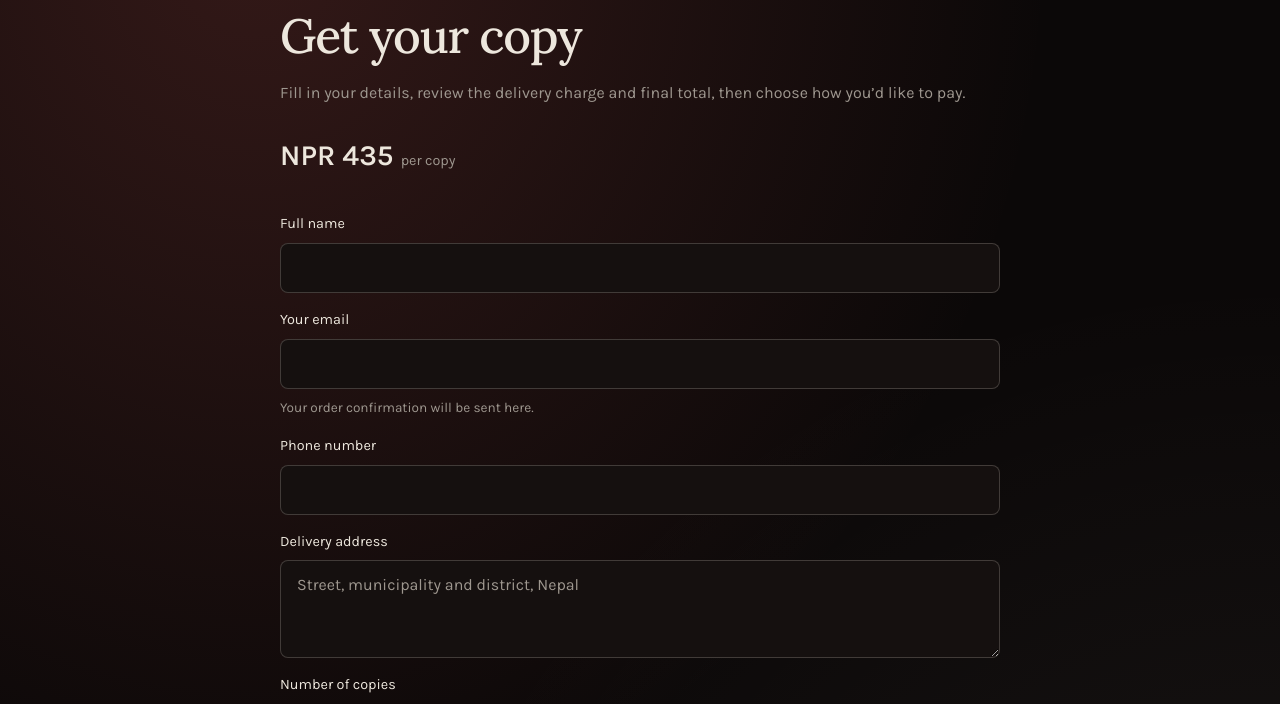
Test: delivery total is revealed at review, COD submits and the exact receipt message appears
In the field labelled "Full name": (640, 268) 280,243 -> 1000,293, type "Sample Reader"
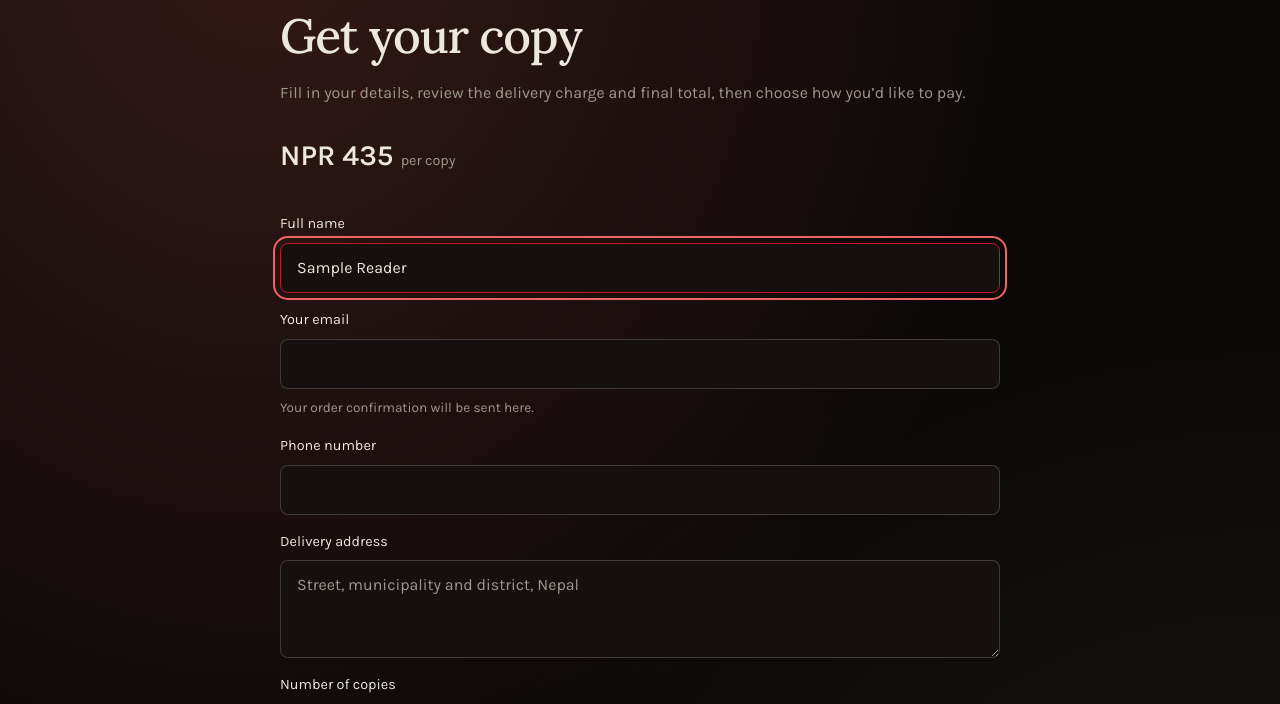
In the field labelled "Your email": (640, 364) 280,339 -> 1000,389, type "reader@example.test"
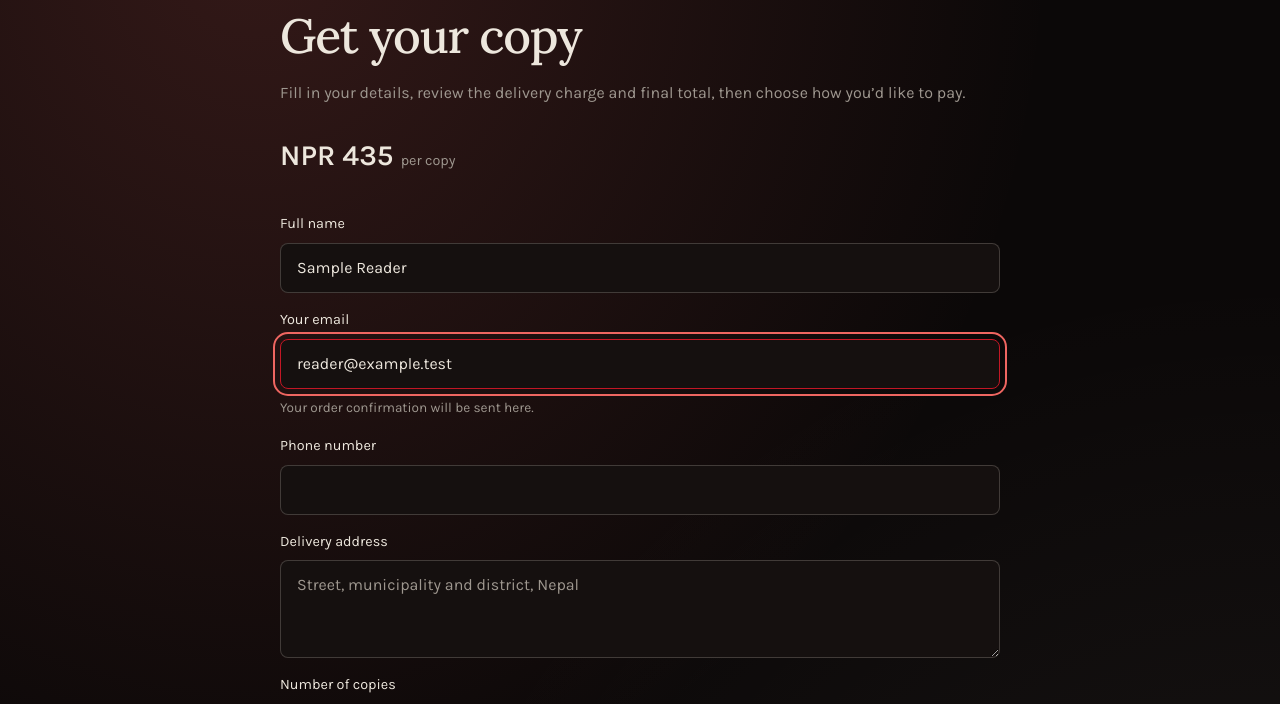
In the field labelled "Phone number": (640, 490) 280,465 -> 1000,515, type "+977 9800000000"
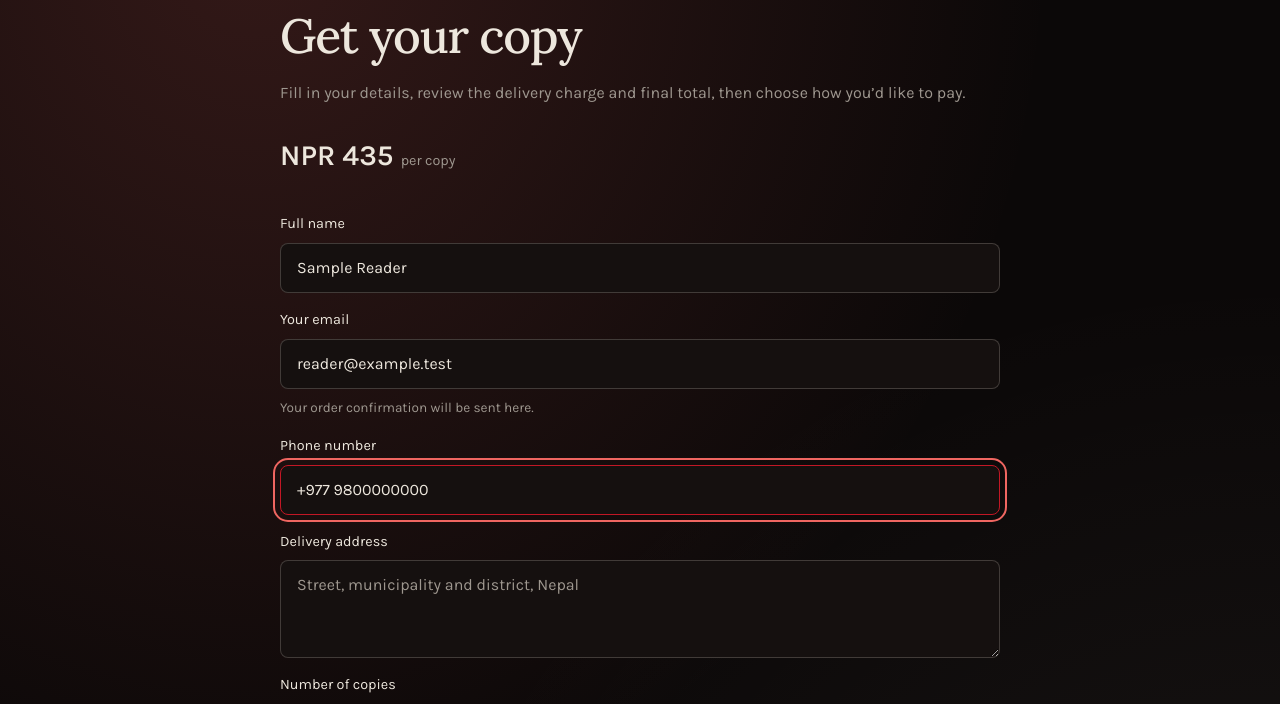
In the text box labelled "Delivery address": (640, 609) 280,560 -> 1000,658, type "Sample address, Jhapa, Nepal"
(page scrolled)
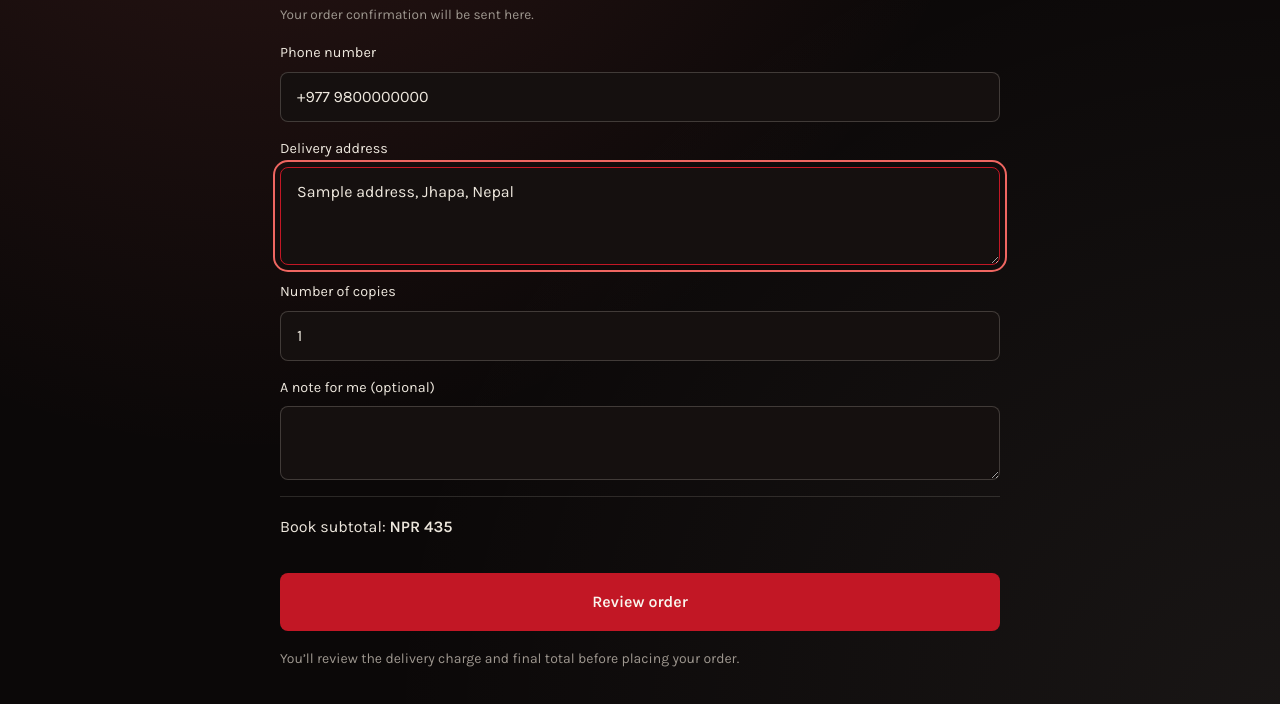
Expected: the heading "Review your order" is not shown
Click the button "Review order": (640, 602) 280,574 -> 1000,632
(page scrolled)
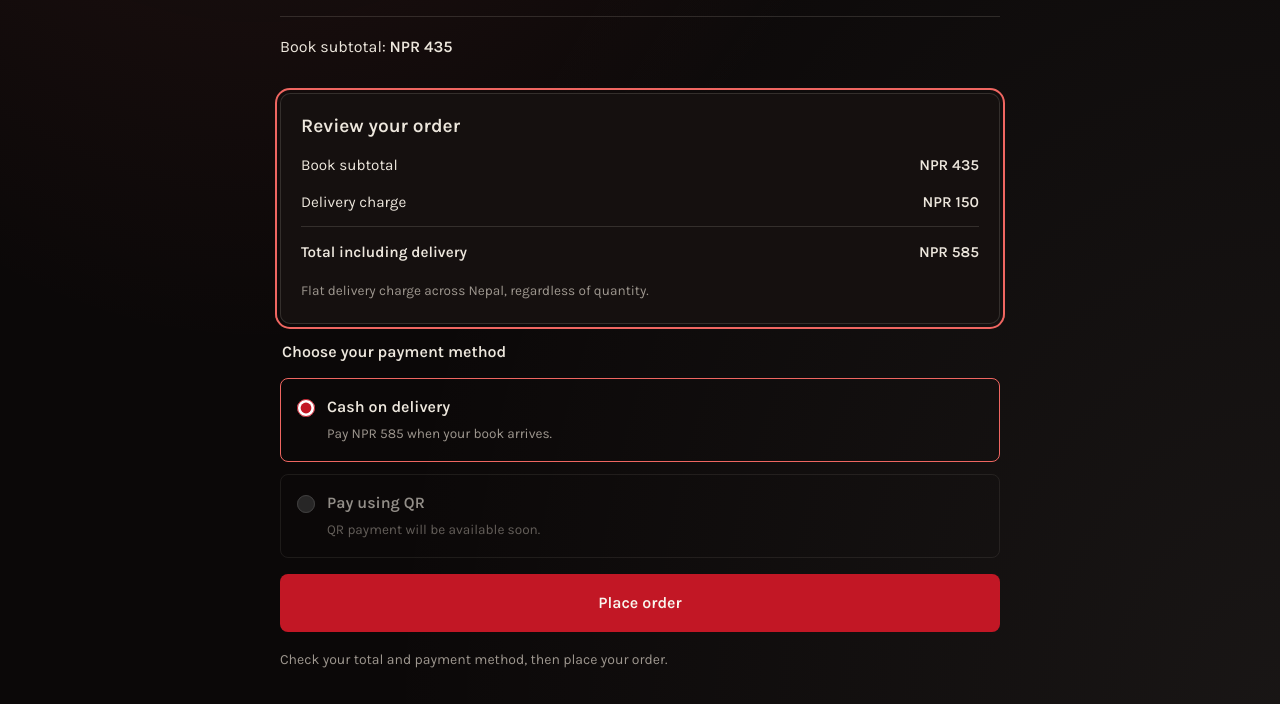
Expected: the text "NPR 150" is shown, 923,189 -> 979,216
Expected: the text "NPR 585" is shown, 919,239 -> 979,265
Expected: the radio button labelled "Pay using QR QR payment will be available soon." is disabled, 297,495 -> 315,513
Click the button "Place order": (640, 602) 280,574 -> 1000,632
(page scrolled)
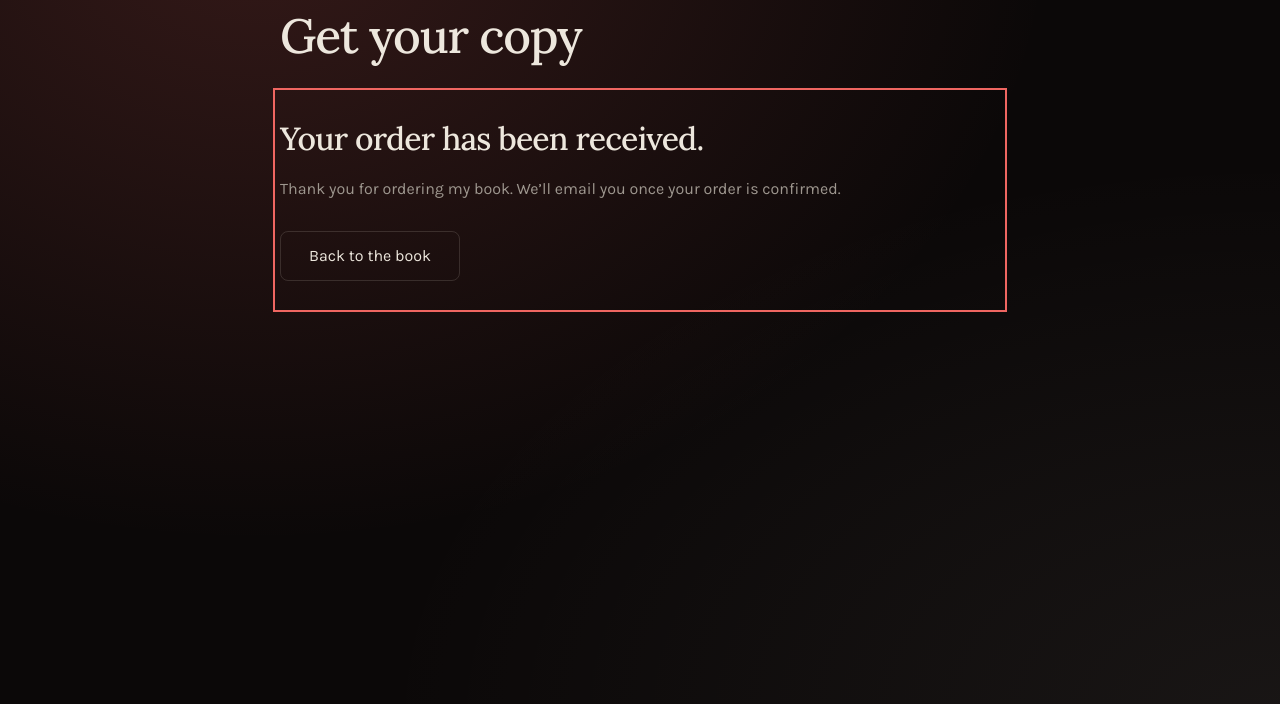
Expected: the heading "Your order has been received." is shown, 280,118 -> 703,159
